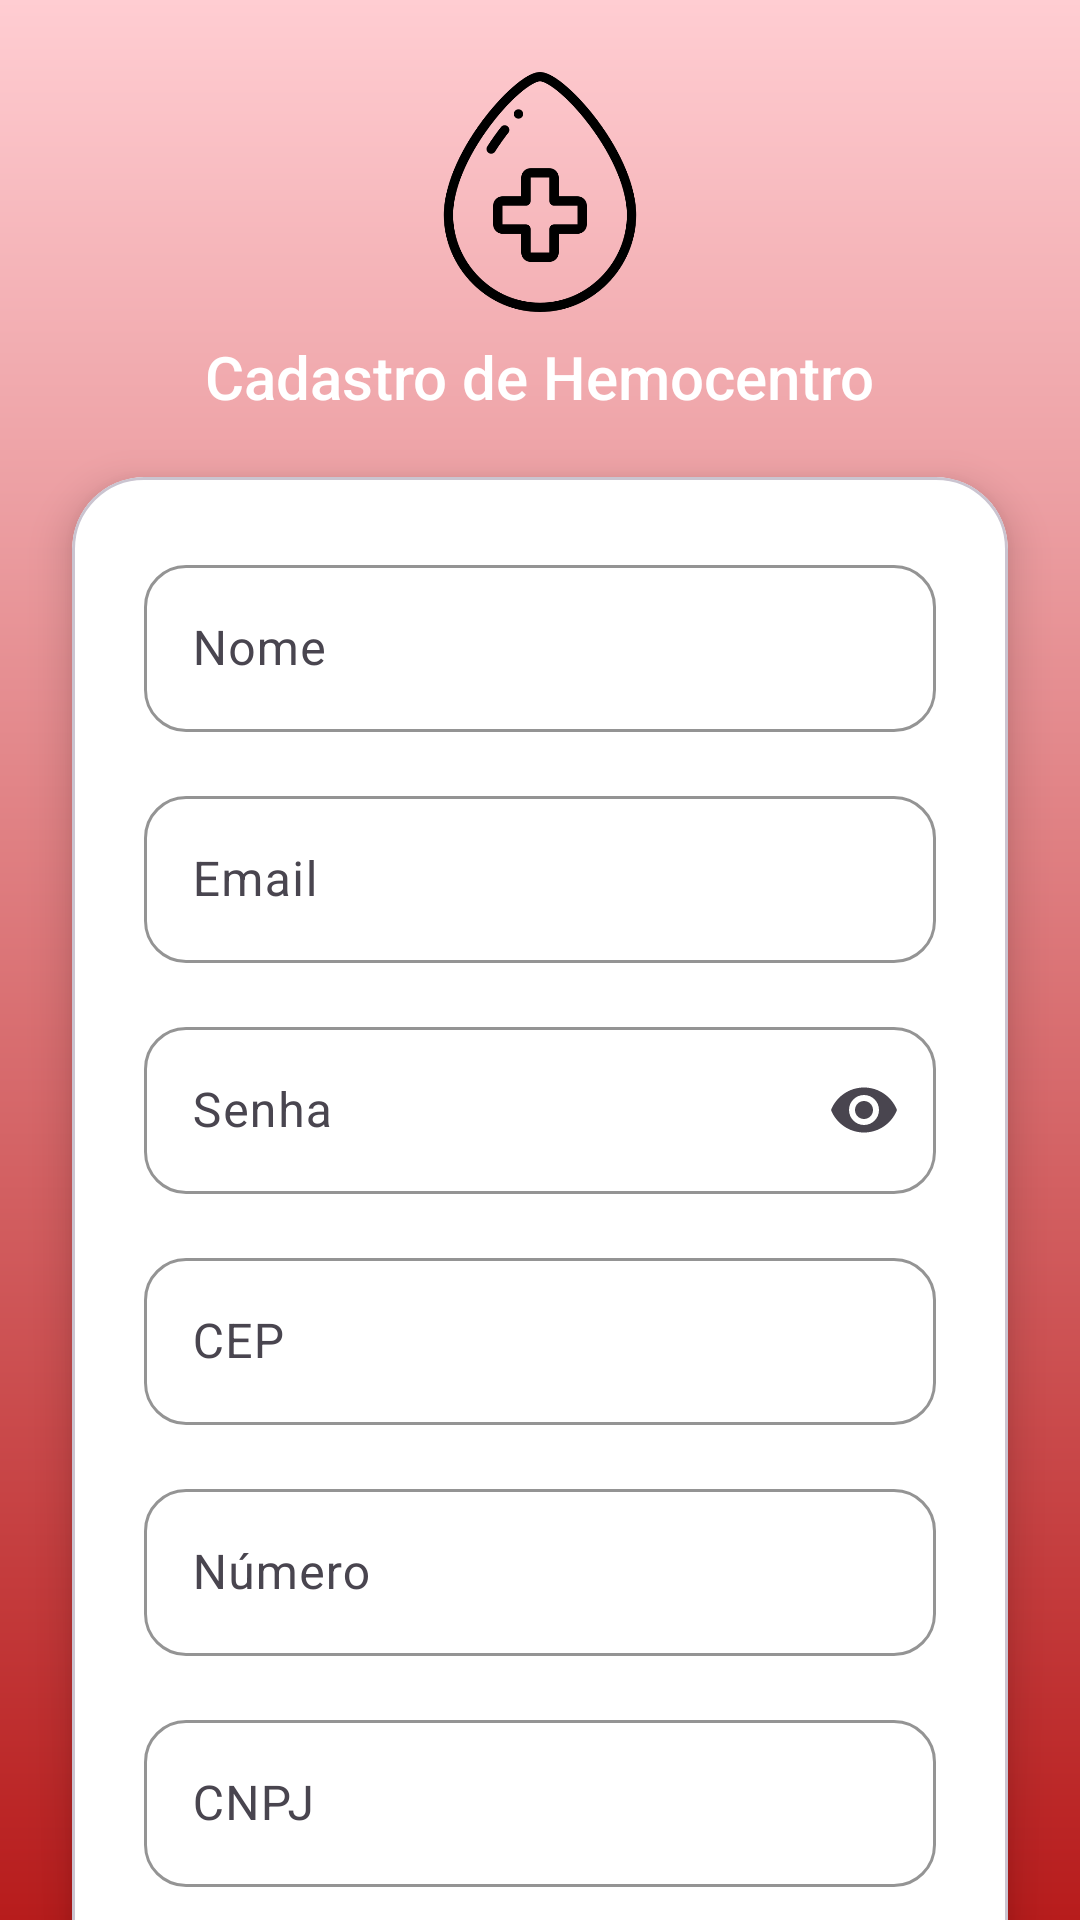

Icons on this 1080w x 1920h Android screen, each with the point to tap as (x=x, y=y):
blood donation: (x=540, y=192)
